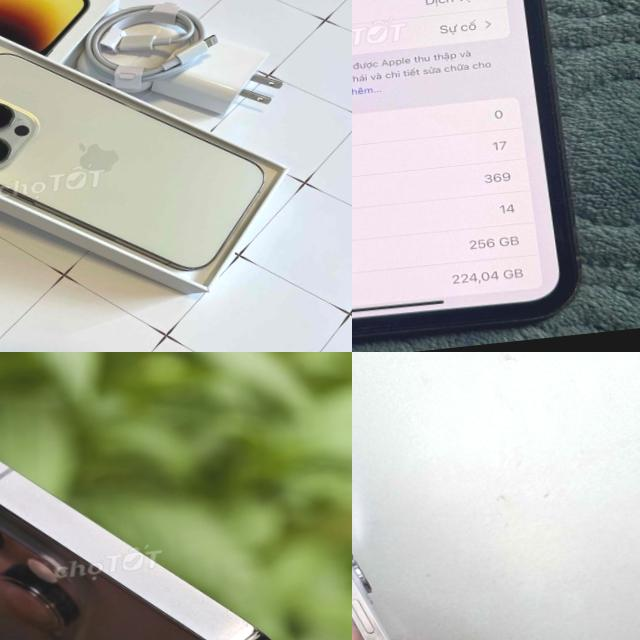gen_14: (0, 23, 278, 307), (0, 404, 317, 640), (352, 486, 505, 640)
gen_x_xs: (352, 0, 584, 352)
